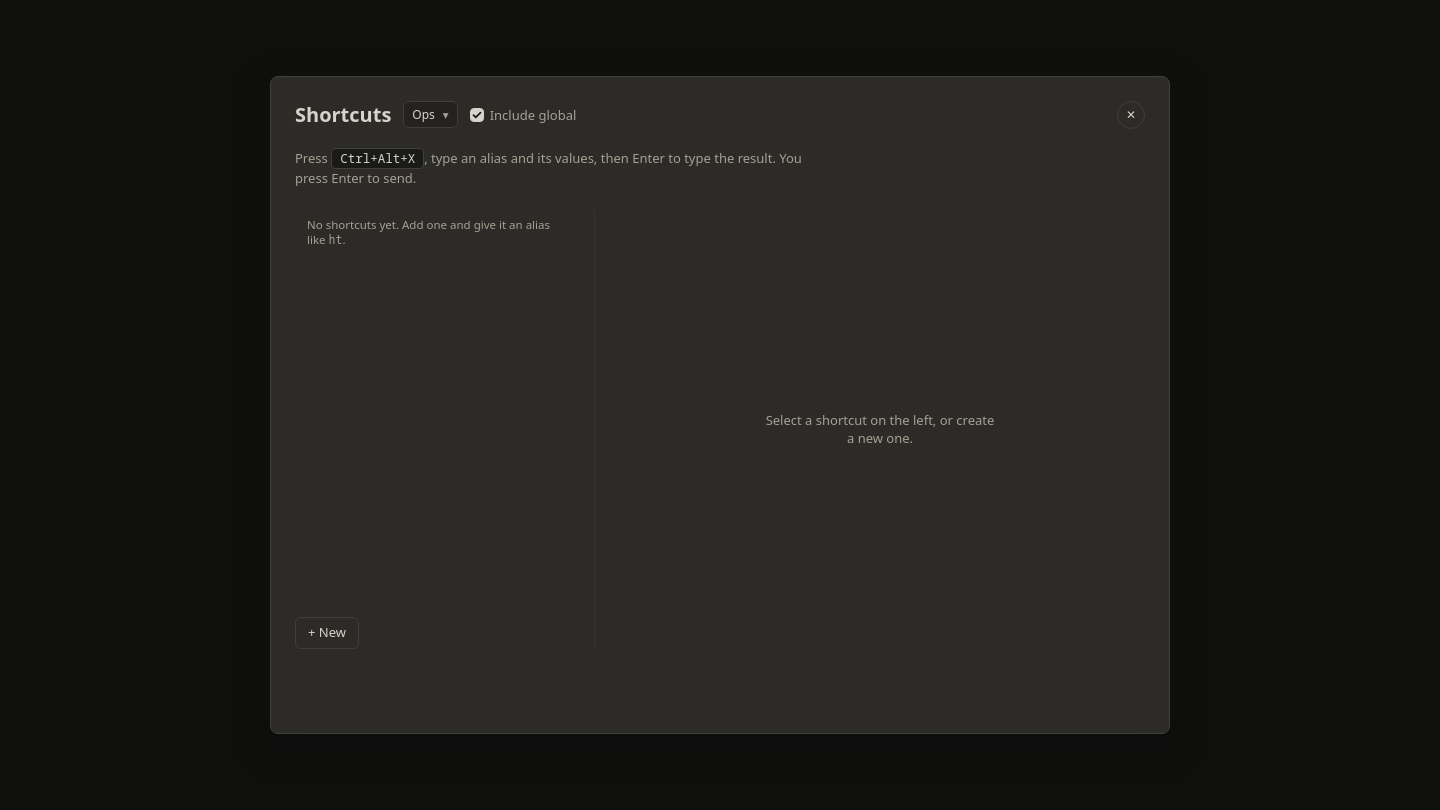
Test case: Include global › a refused write puts the box back and says so
The width and height of the screenshot is (1440, 810).
Click the checkbox labelled "Include global" at (477, 115), box x1=470 y1=108 x2=484 y2=122
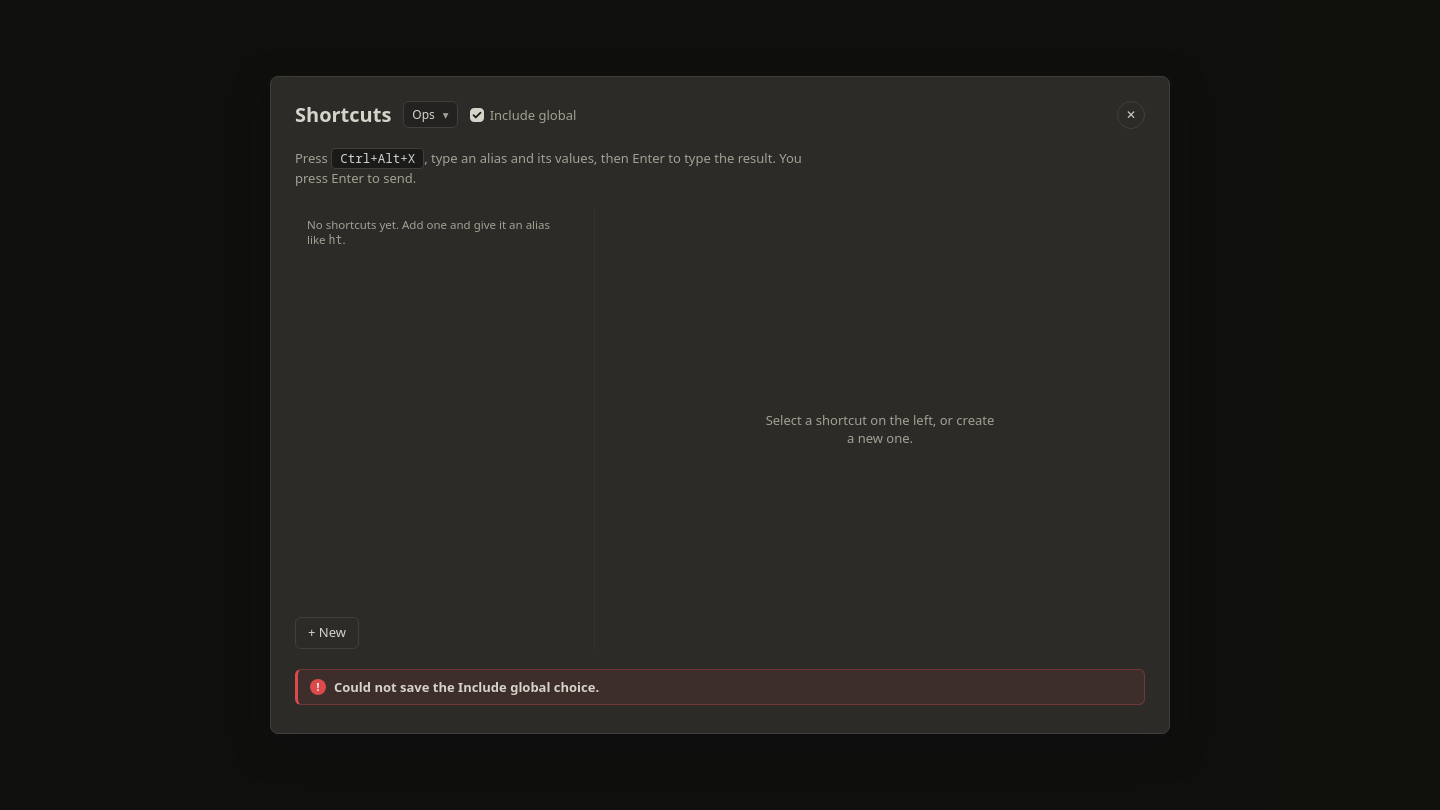
Check: the message with test id "shortcuts-error" reads "Could not save the Include global choice.", box x1=334 y1=678 x2=599 y2=696
